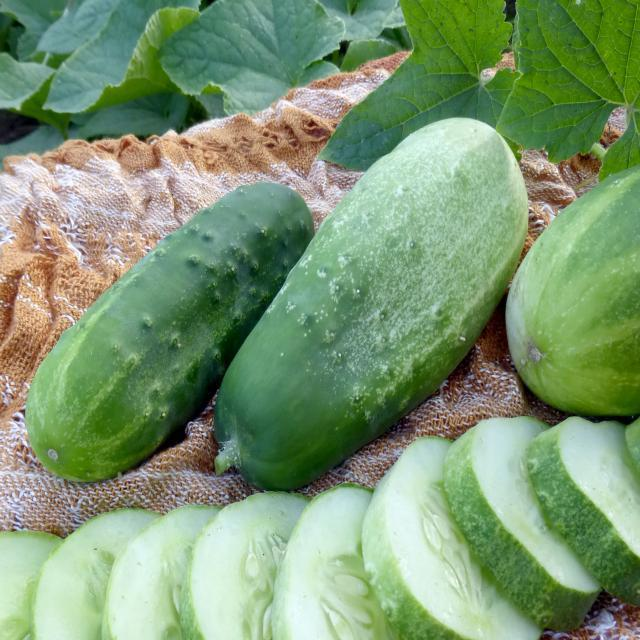Cucumber: (236, 122, 546, 496), (24, 182, 308, 481)
